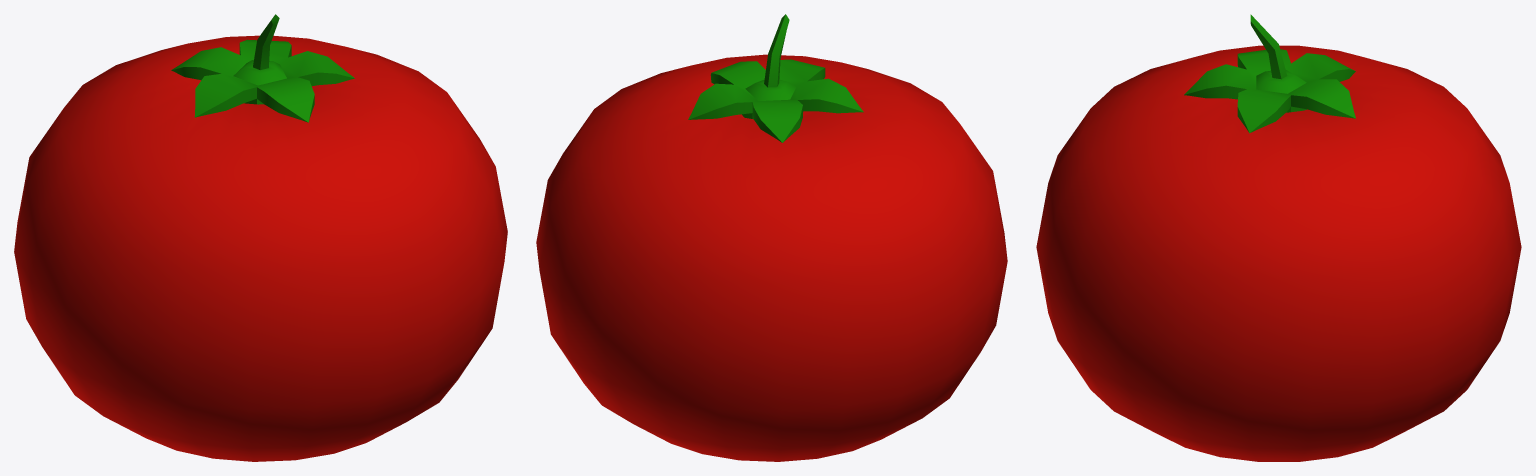
File: TomatoMesh.fbx
The picture shows the model from 3 angles, left to right: view 1: azimuth 30°, elevation 25°; view 2: azimuth 150°, elevation 25°; view 3: azimuth 270°, elevation 25°; orthographic projection. The views are drawn at different scales.
Parts seen in each view (by area): view 1: Sphere; view 2: Sphere; view 3: Sphere.
Part boxes in pixels (box(x1,y1,x2,y2)): Sphere: box(14, 14, 507, 461); Sphere: box(536, 14, 1007, 461); Sphere: box(1036, 14, 1521, 461).
Size of the model in its own units: 198 by 187 by 200.
